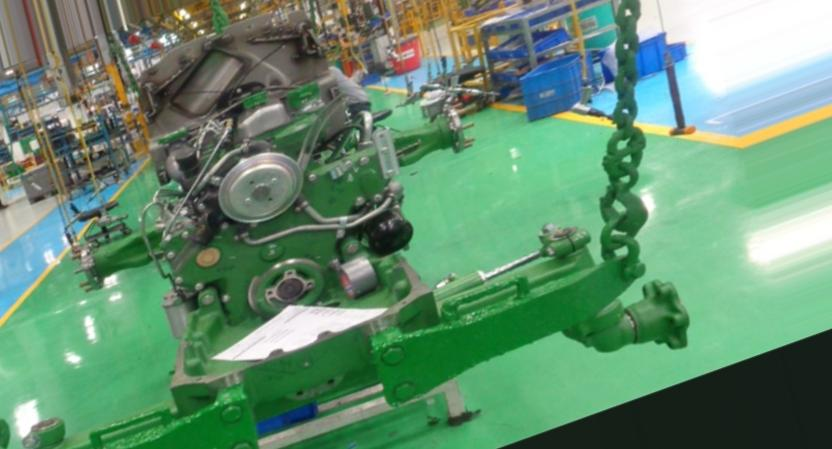engine: (0, 0, 688, 449)
